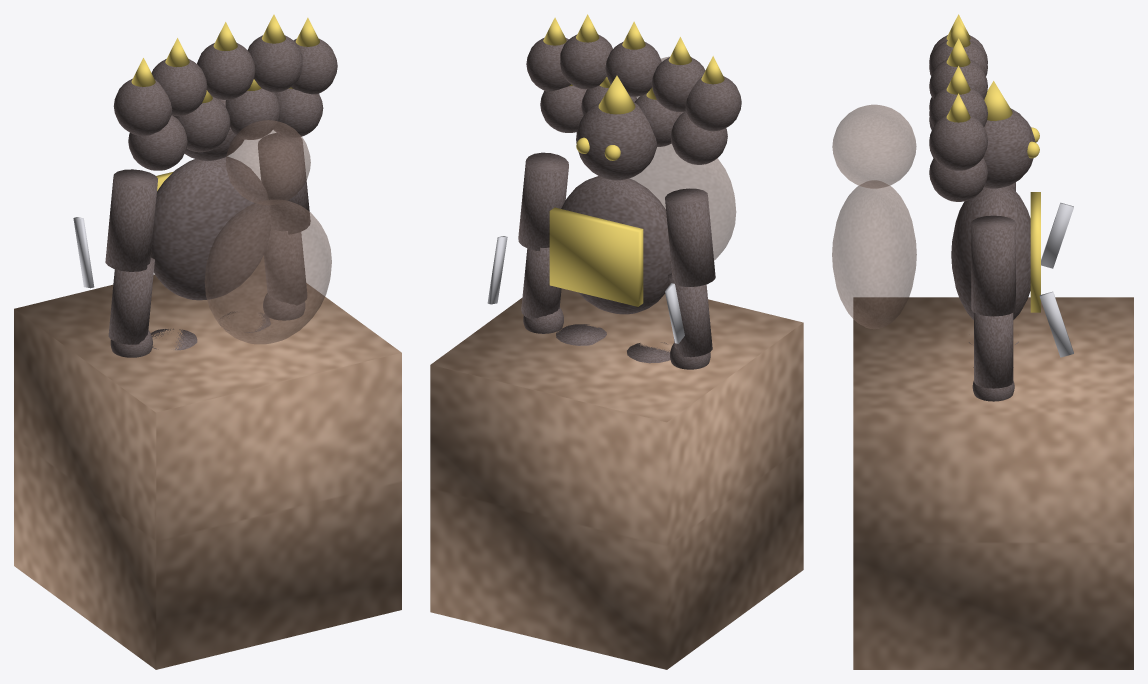
The model's file is ravana.glb.
The picture shows the model from 3 angles, left to right: view 1: azimuth 30°, elevation 25°; view 2: azimuth 150°, elevation 25°; view 3: azimuth 270°, elevation 25°; orthographic projection. The views are drawn at different scales.
Visible parts, largest first — view 1: Cube, DoubleTorso, Torso, DoubleHead, UpperArmL, UpperArmR, ForearmL, ForearmR, Head0, Head4, Head6, Head5 (+9 smaller); view 2: Cube, Chestplate, Torso, DoubleTorso, MainHead, UpperArmL, UpperArmR, Head0, ForearmL, Head6, Head4, ForearmR (+12 smaller); view 3: Cube, DoubleTorso, DoubleHead, Torso, UpperArmR, MainHead, ForearmR, Head8, Head7, Chestplate, Head6, Head4 (+5 smaller).
Boxes of the visible parts, x1,y1,x2,y2 form: Cube: (14,256,401,669); DoubleTorso: (204,200,331,344); Torso: (151,156,271,300); DoubleHead: (225,120,310,205); UpperArmL: (105,169,157,271); UpperArmR: (258,133,310,234); ForearmL: (108,257,154,344); ForearmR: (264,229,307,305); Head0: (113,78,172,135); Head4: (197,43,255,99); Head6: (247,35,302,92); Head5: (225,88,280,139); Cube: (430,288,803,669); Chestplate: (549,207,643,306); Torso: (561,176,671,314); DoubleTorso: (630,144,736,260); MainHead: (576,102,656,180); UpperArmL: (665,188,715,286); UpperArmR: (518,152,568,250); Head0: (685,76,741,131); ForearmL: (668,273,712,357); Head6: (560,34,612,89); Head4: (605,41,661,96); ForearmR: (521,247,561,319); Cube: (853,297,1133,669); DoubleTorso: (832,180,916,329); DoubleHead: (832,104,916,188); Torso: (951,185,1030,319); UpperArmR: (971,215,1015,316); MainHead: (983,108,1035,188); ForearmR: (974,312,1013,388); Head8: (929,114,987,170); Head7: (929,157,987,201); Chestplate: (1030,192,1040,312); Head6: (929,86,987,127); Head4: (929,59,987,99).
Size of the model in its own units: 1.33 by 3 by 1.43.
6 materials, 3 textured.
